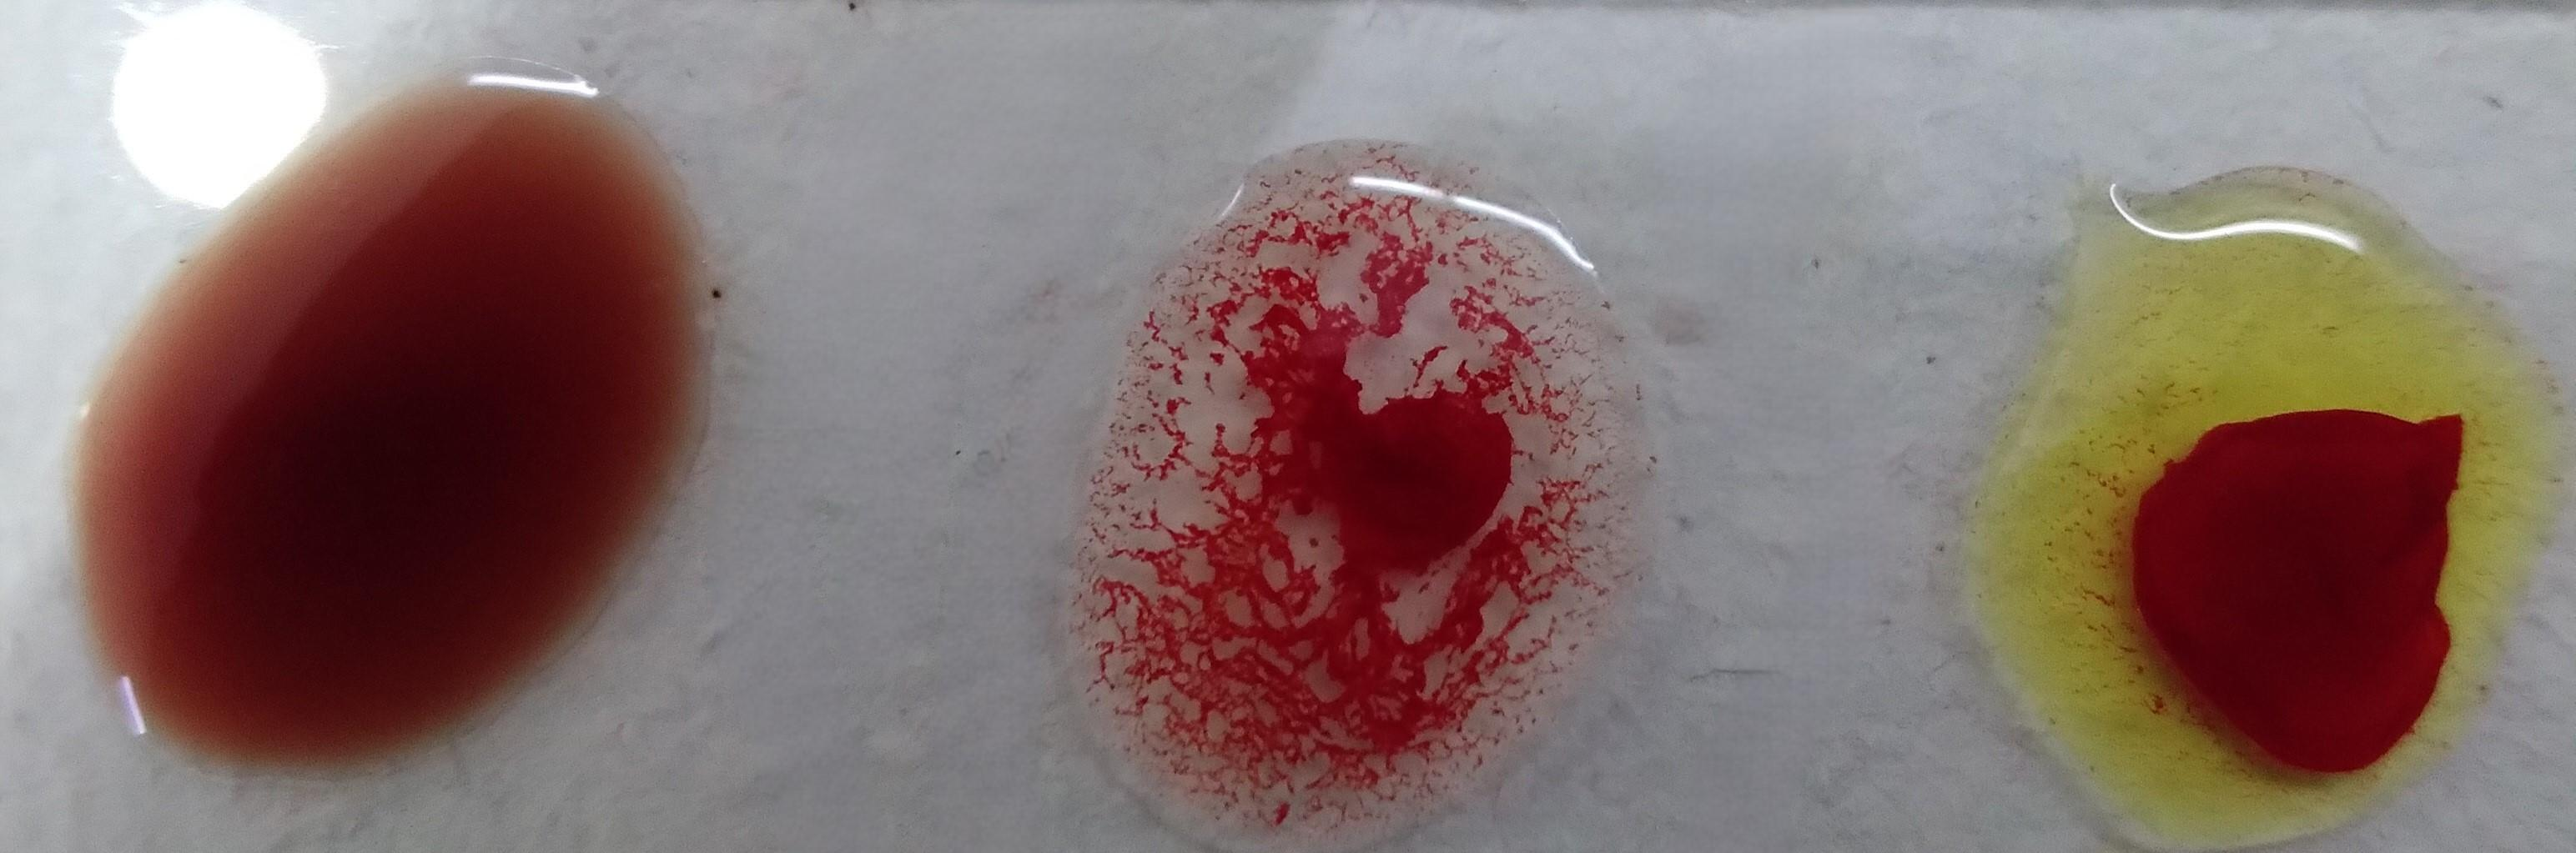B: (1978, 173, 2550, 853)
D: (1084, 151, 1569, 828)
